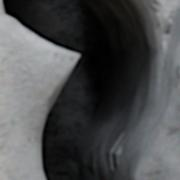broken_brick: (0, 14, 77, 179), (141, 45, 179, 179), (173, 6, 179, 27)
crack: (1, 0, 179, 179)
